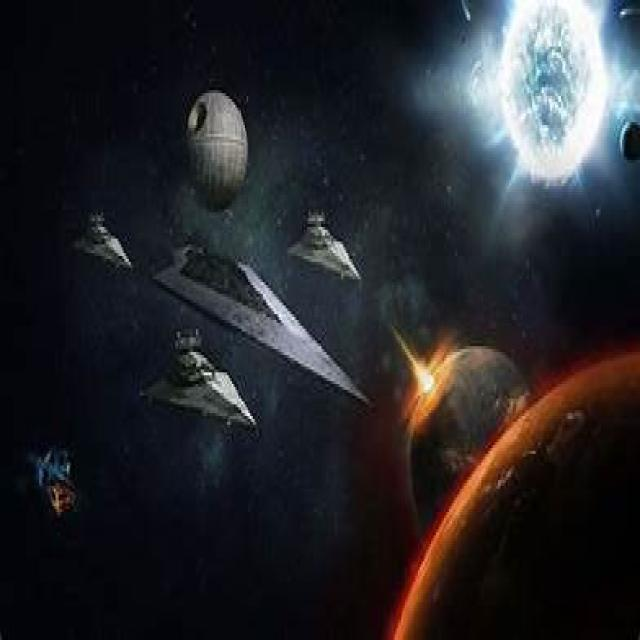deathStar: (180, 84, 252, 219)
